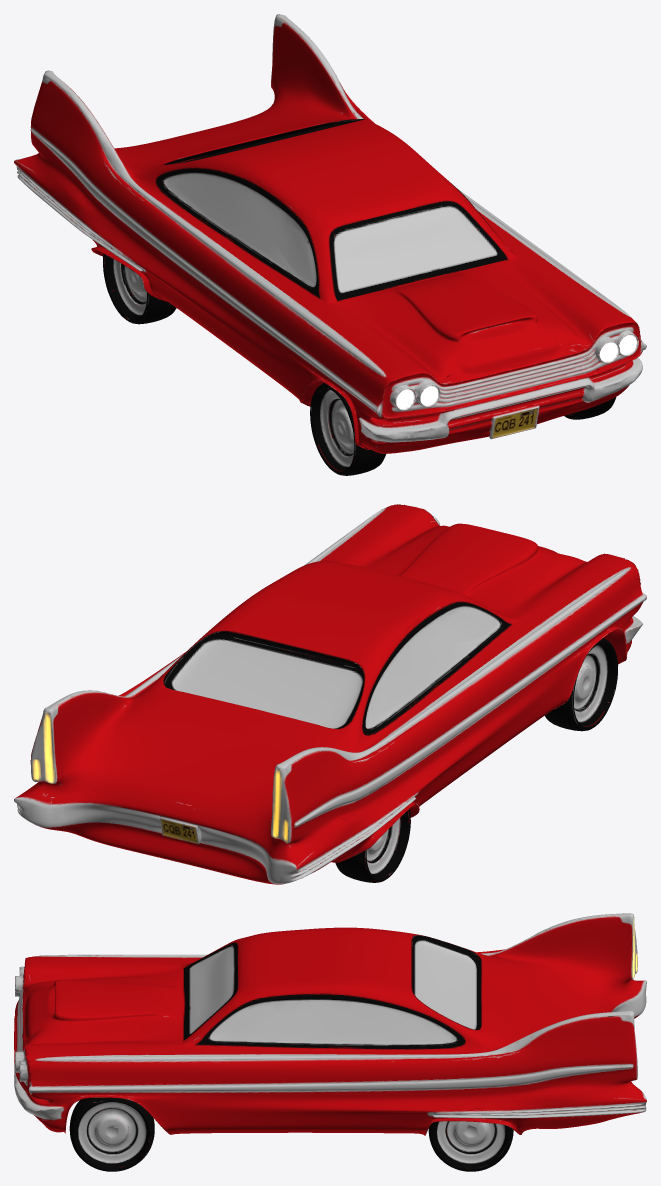
File: RetroCar.fbx
3 views of the same model, one above another, from view 1: azimuth 30°, elevation 25°; view 2: azimuth 150°, elevation 25°; view 3: azimuth 270°, elevation 25° (orthographic). The views are drawn at different scales.
Visible parts, largest first — view 1: RetroCar; view 2: RetroCar; view 3: RetroCar.
Part boxes in pixels (x1,y1,x2,y2): RetroCar: [14, 14, 646, 475]; RetroCar: [14, 504, 646, 884]; RetroCar: [14, 913, 646, 1171].
Bounding box in the file's own units: 490 × 304 × 1069.
Materials: 1 (1 with a texture image).
